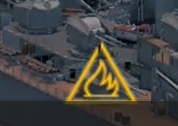1fire: (58, 70, 138, 105)
